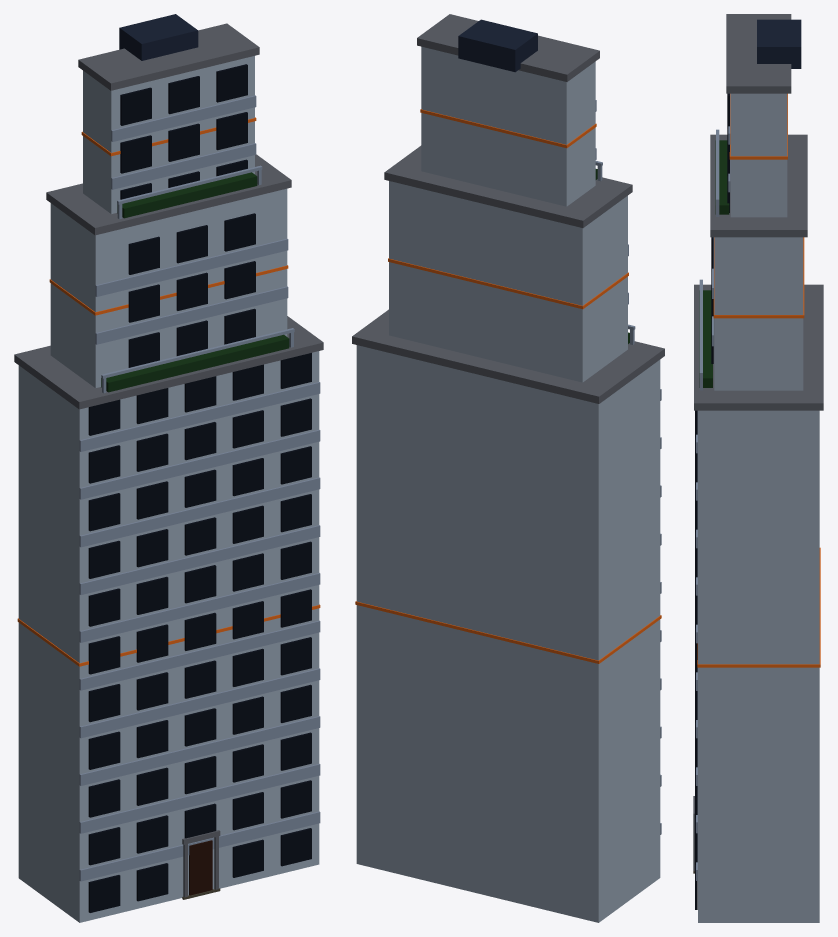
Rendered from highrise4.obj.
3 renders of one model, left to right at view 1: azimuth 30°, elevation 25°; view 2: azimuth 150°, elevation 25°; view 3: azimuth 270°, elevation 25°, orthographic.
Parts seen in each view (by area): view 1: tiers, windows, spandrels, tier-caps, roof-gardens, roof-plant, garden-rails, window-lights, entrance; view 2: tiers, tier-caps, roof-plant, window-lights; view 3: tiers, tier-caps, roof-plant, roof-gardens, window-lights, windows, spandrels, garden-rails.
Part boxes in pixels (x1,y1,x2,y2): tiers: (18,56,319,922); windows: (88,64,311,912); spandrels: (79,95,320,881); tier-caps: (14,23,323,409); roof-gardens: (101,172,289,392); roof-plant: (119,14,198,60); garden-rails: (101,165,294,393); window-lights: (17,117,320,666); entrance: (189,840,212,895); tiers: (356,46,660,922); tier-caps: (352,14,664,403); roof-plant: (458,19,537,72); window-lights: (355,109,661,663); tiers: (698,93,819,922); tier-caps: (694,14,823,410); roof-plant: (757,19,801,68); roof-gardens: (699,140,729,387); window-lights: (697,93,820,667); windows: (695,93,729,909); spandrels: (696,94,730,880); garden-rails: (699,129,719,390).
Bounding box in the file's own units: 6.94 × 22.64 × 3.22.
